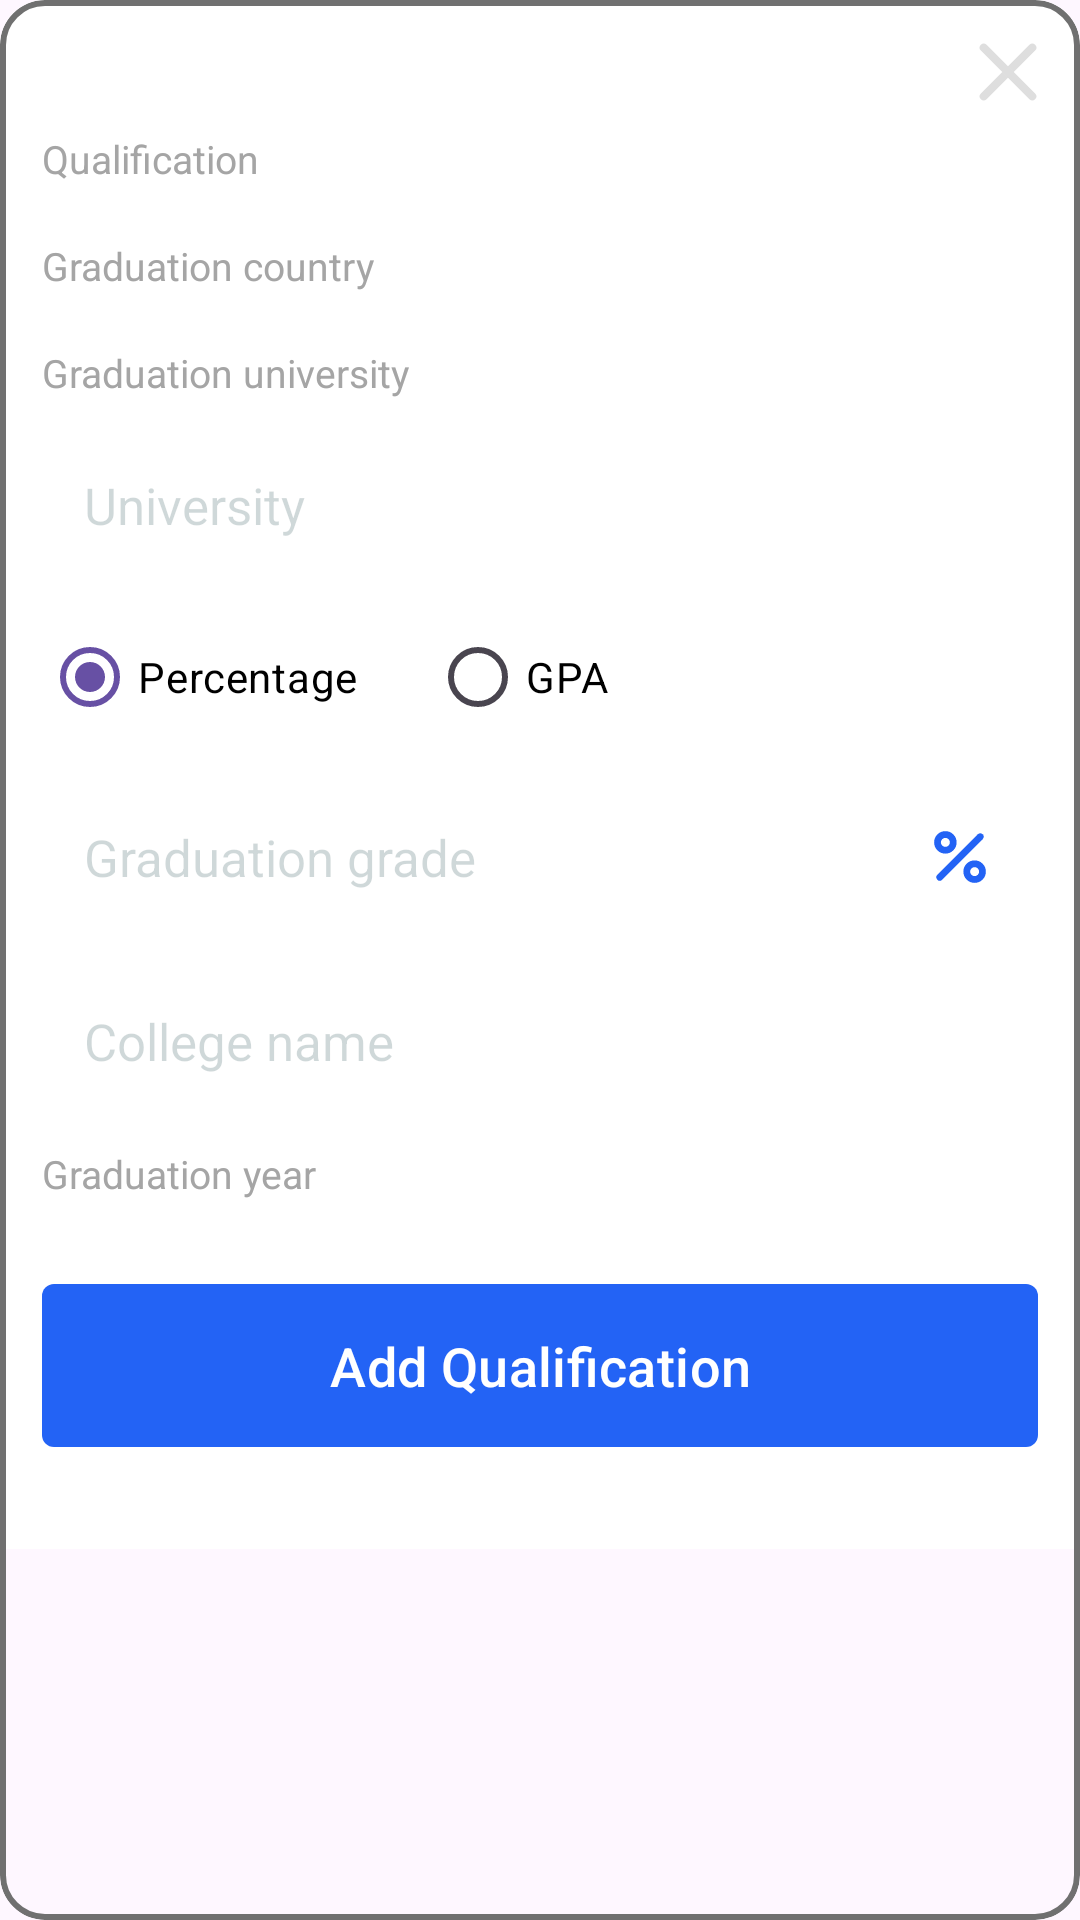

Icons on this 1080x1920 Android screen, each with the point to tap as (x=x, y=y):
close: (x=1008, y=72)
